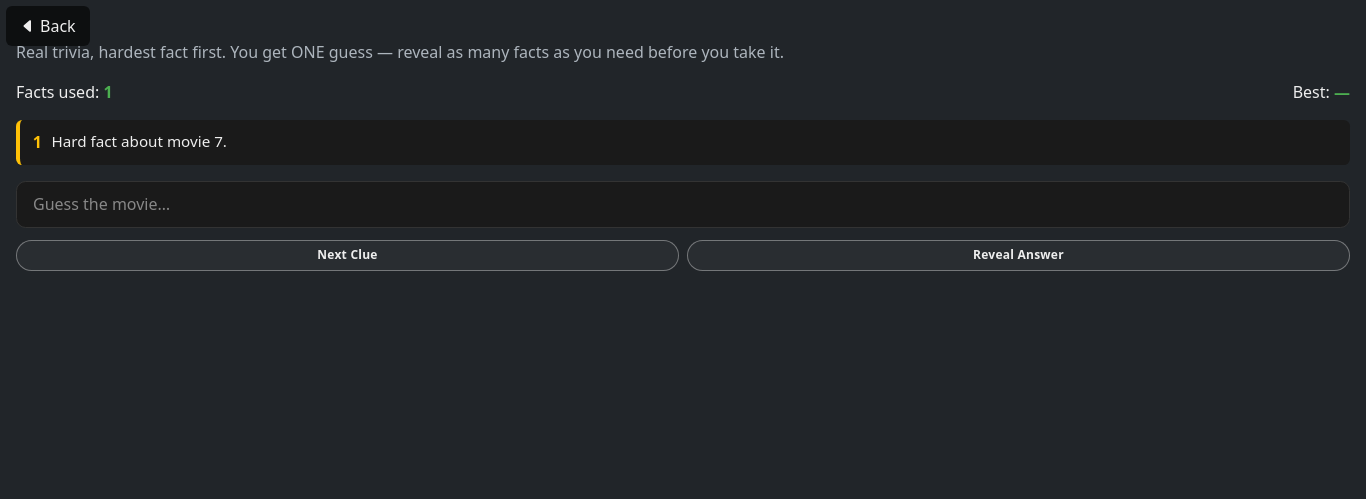
Test: TriviaGame › "Next Clue" reveals the next fact without requiring a guess, and disables once every fact is shown
Click the button "Next Clue" at x=348, y=255, box [16,240,679,271]
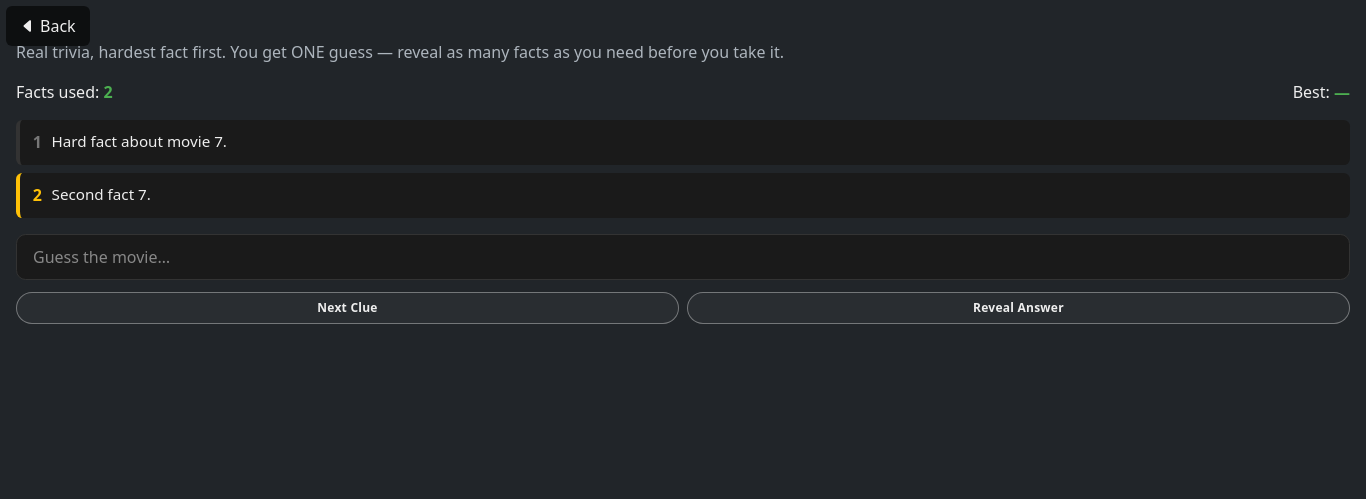
Click the button "Next Clue" at x=348, y=308, box [16,292,679,324]
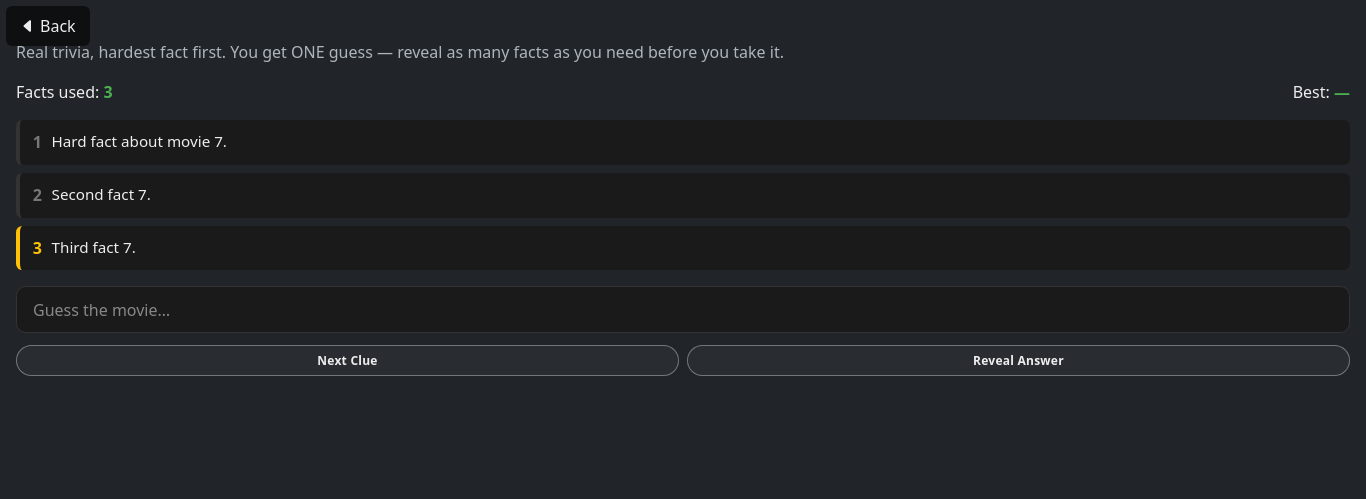
Click the button "Next Clue" at x=348, y=361, box [16,345,679,376]
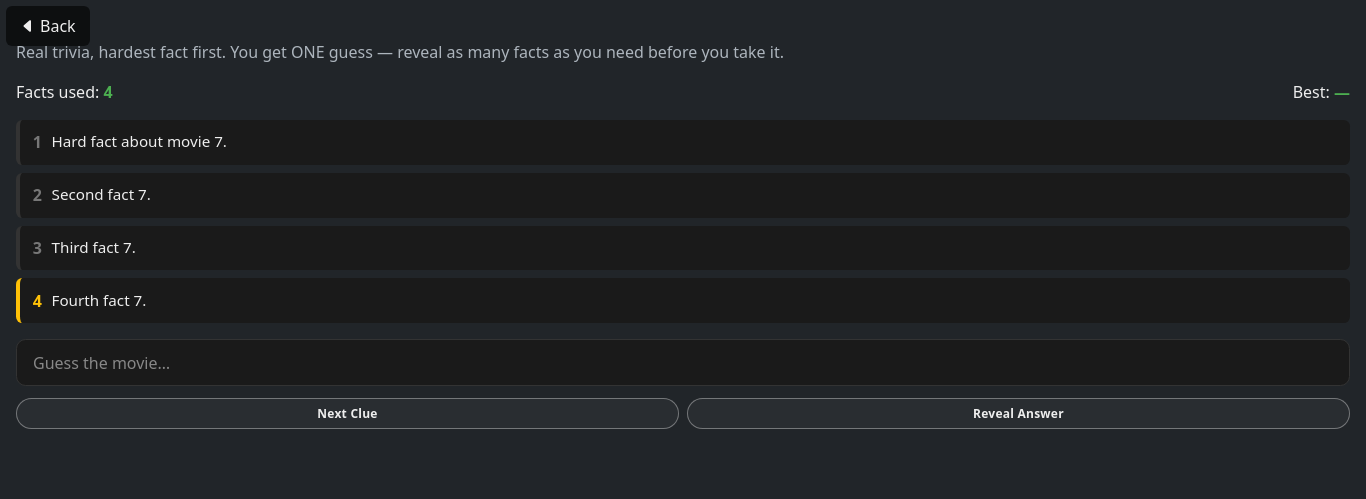
Click the button "Next Clue" at x=348, y=414, box [16,398,679,429]
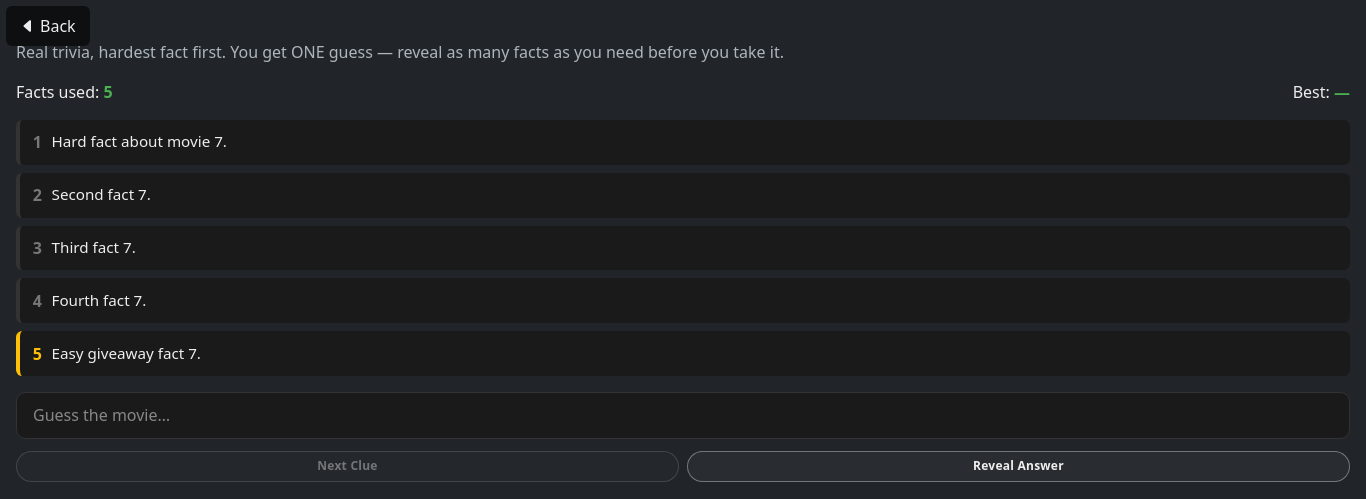
Expected: the button "Next Clue" is disabled, [16,451,679,482]
